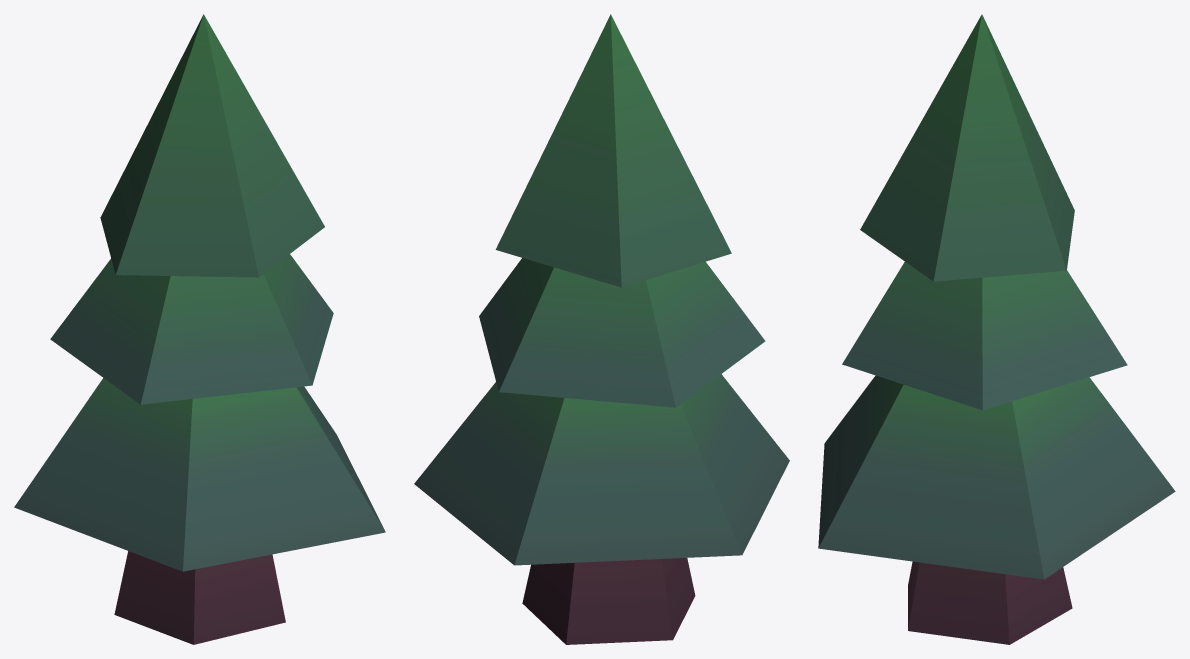
File: p-pino.glb
The picture shows the model from 3 angles, left to right: view 1: azimuth 30°, elevation 25°; view 2: azimuth 150°, elevation 25°; view 3: azimuth 270°, elevation 25°; orthographic projection.
Visible parts, largest first — view 1: Tree_Pine; view 2: Tree_Pine; view 3: Tree_Pine.
Part boxes in pixels (bbox=[...]): Tree_Pine: bbox=[14, 14, 385, 644]; Tree_Pine: bbox=[414, 14, 789, 644]; Tree_Pine: bbox=[818, 14, 1175, 644].
Size of the model in its own units: 0.8477 by 1.48 by 0.8061.
1 material, 1 textured.
